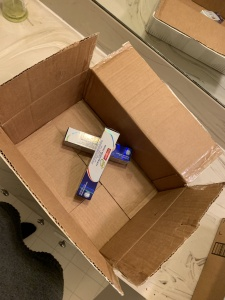innerbox: (43, 89, 167, 230)
outerbox: (1, 33, 209, 282)
product: (63, 124, 133, 202)
